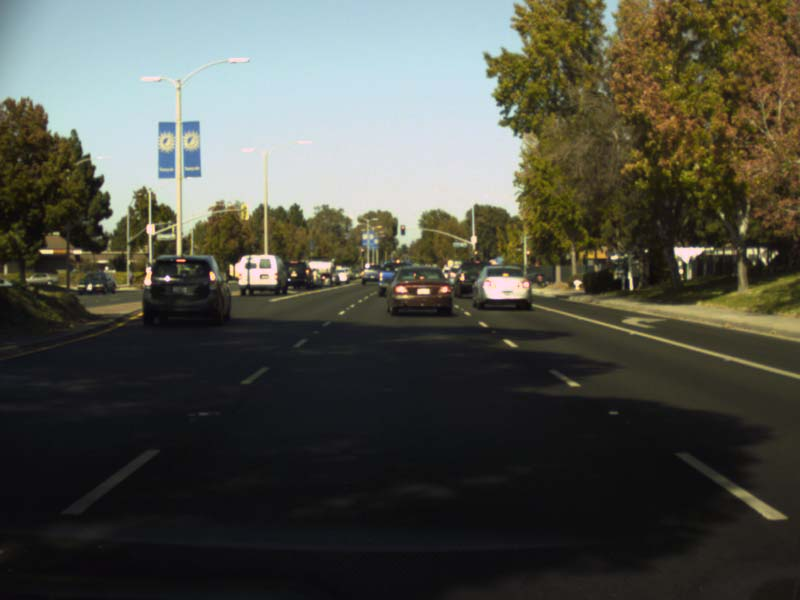Red: (400, 225, 404, 234), (360, 248, 364, 256)
Yellow: (525, 249, 532, 255), (473, 250, 478, 255)
